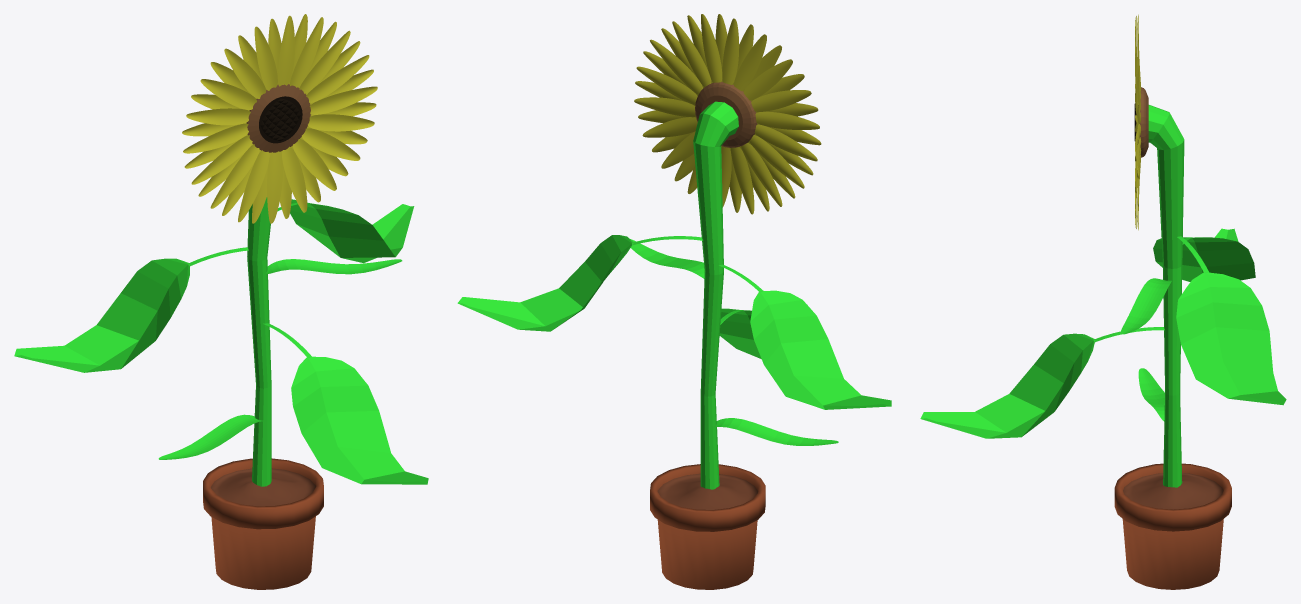
File: sunflower.fbx
3 renders of one model, left to right at view 1: azimuth 30°, elevation 25°; view 2: azimuth 150°, elevation 25°; view 3: azimuth 270°, elevation 25°, orthographic. The views are drawn at different scales.
Visible parts, largest first — view 1: Plane.001, Circle.001, Plane.004, Plane.003, Plane, Vert, Plane.005, Circle, Plane.006, Plane.002; view 2: Plane, Circle.001, Plane.003, Vert, Plane.001, Plane.005, Circle, Plane.004, Plane.006, Plane.002; view 3: Circle.001, Plane.005, Vert, Plane.004, Plane.003, Plane.002, Plane.006, Plane, Circle, Plane.001.
Part boxes in pixels (x1=…): Plane.001: x1=183, y1=15, x2=377, y2=223; Circle.001: x1=203, y1=458, x2=323, y2=589; Plane.004: x1=263, y1=323, x2=428, y2=484; Plane.003: x1=14, y1=247, x2=248, y2=372; Plane: x1=182, y1=14, x2=376, y2=223; Vert: x1=247, y1=197, x2=271, y2=486; Plane.005: x1=277, y1=199, x2=414, y2=263; Circle: x1=246, y1=84, x2=310, y2=152; Plane.006: x1=158, y1=414, x2=263, y2=459; Plane.002: x1=266, y1=259, x2=402, y2=274; Plane: x1=634, y1=14, x2=819, y2=214; Circle.001: x1=650, y1=464, x2=765, y2=589; Plane.003: x1=719, y1=264, x2=891, y2=409; Vert: x1=693, y1=101, x2=738, y2=489; Plane.001: x1=635, y1=14, x2=821, y2=212; Plane.005: x1=457, y1=235, x2=702, y2=331; Circle: x1=695, y1=82, x2=757, y2=147; Plane.004: x1=719, y1=308, x2=761, y2=358; Plane.006: x1=711, y1=418, x2=838, y2=445; Plane.002: x1=630, y1=239, x2=704, y2=278; Circle.001: x1=1114, y1=463, x2=1231, y2=589; Plane.005: x1=1176, y1=236, x2=1286, y2=405; Vert: x1=1148, y1=105, x2=1184, y2=487; Plane.004: x1=920, y1=327, x2=1164, y2=438; Plane.003: x1=1153, y1=228, x2=1255, y2=281; Plane.002: x1=1121, y1=278, x2=1171, y2=334; Plane.006: x1=1138, y1=368, x2=1164, y2=421; Plane: x1=1137, y1=14, x2=1141, y2=230; Circle: x1=1134, y1=87, x2=1148, y2=157; Plane.001: x1=1135, y1=16, x2=1138, y2=228.
Size of the model in its own units: 4740 by 6034 by 3674.
